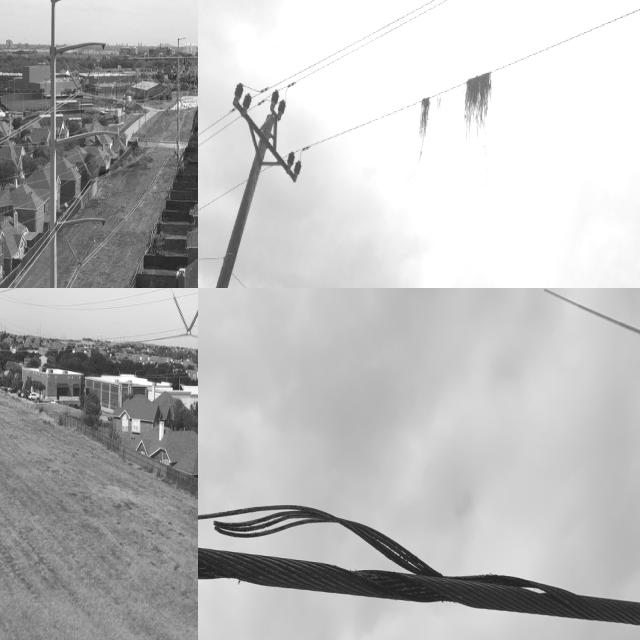植被遮挡: (463, 67, 494, 194), (411, 95, 431, 181)
正常绝缘子: (172, 293, 194, 337), (77, 54, 100, 93), (77, 234, 99, 270), (62, 230, 82, 269), (74, 144, 95, 181), (61, 55, 80, 91), (90, 151, 110, 184), (184, 303, 198, 337), (233, 81, 246, 102), (241, 91, 253, 113), (270, 87, 281, 109), (276, 97, 287, 119), (286, 150, 297, 170), (292, 160, 303, 180)
电缆破损: (198, 494, 561, 626)
